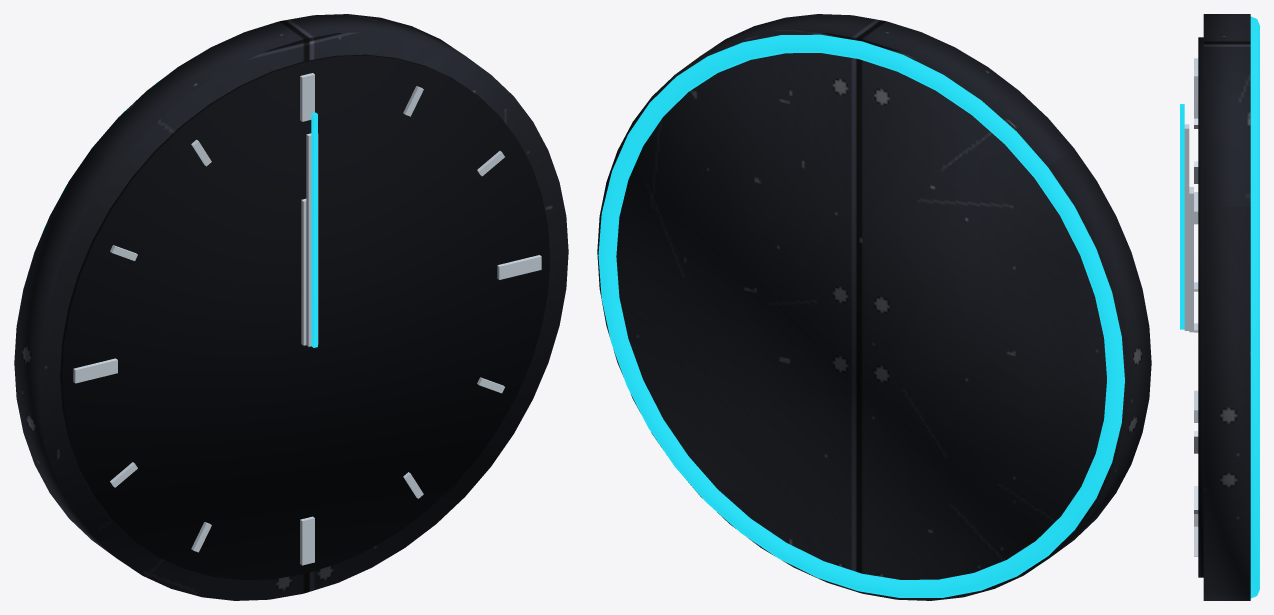
File: Deco_WallClock.gltf
3 views of the same model, side by side, from view 1: azimuth 30°, elevation 25°; view 2: azimuth 150°, elevation 25°; view 3: azimuth 270°, elevation 25° (orthographic). The views are drawn at different scales.
Parts seen in each view (by area): view 1: Deco_WallClock, Clock_Second, Clock_Minute, Clock_Hour; view 2: Deco_WallClock; view 3: Deco_WallClock, Clock_Minute, Clock_Second, Clock_Hour.
Boxes of the visible parts, x1,y1,x2,y2 form: Deco_WallClock: (14,14,568,600); Clock_Second: (311,112,317,347); Clock_Minute: (306,133,318,346); Clock_Hour: (301,198,306,345); Deco_WallClock: (597,14,1151,600); Deco_WallClock: (1194,14,1259,600); Clock_Minute: (1184,124,1189,330); Clock_Second: (1180,104,1184,329); Clock_Hour: (1189,187,1193,332).
Bounding box in the file's own units: 0.5 × 0.5 × 0.068.
Materials: 5 (1 with a texture image).
